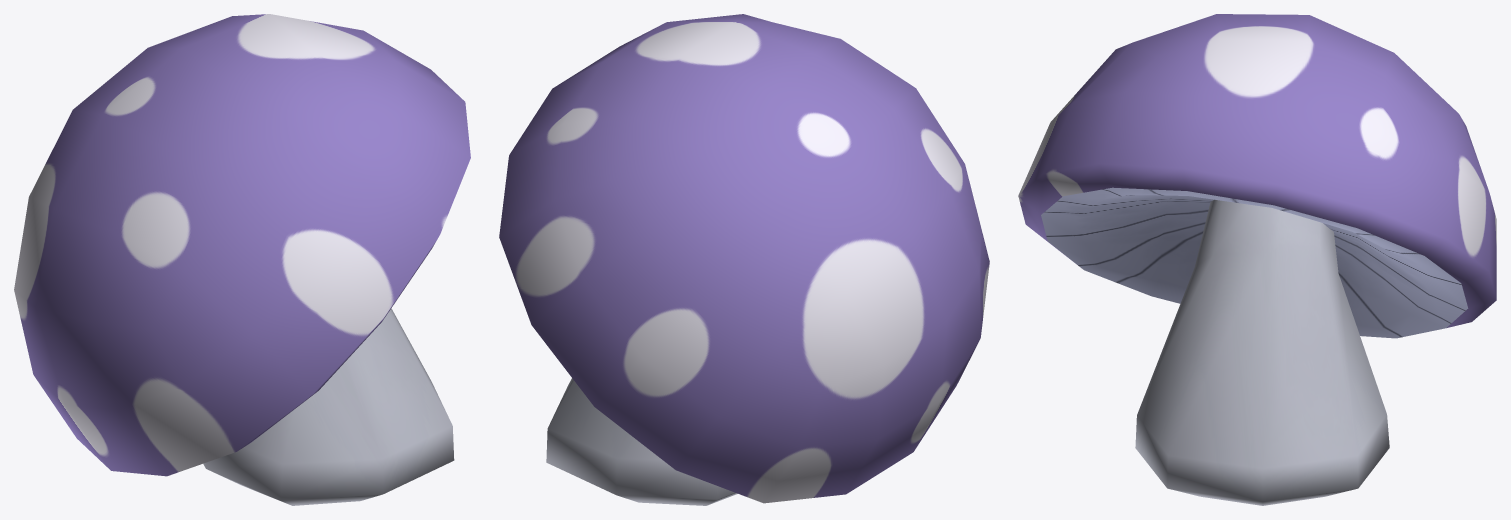
The model's file is Mushroom1.fbx.
3 views of the same model, side by side, from view 1: azimuth 30°, elevation 25°; view 2: azimuth 150°, elevation 25°; view 3: azimuth 270°, elevation 25° (orthographic). The views are drawn at different scales.
Parts seen in each view (by area): view 1: Mushroomroot11; view 2: Mushroomroot11; view 3: Mushroomroot11.
Part boxes in pixels (x1,y1,x2,y2): Mushroomroot11: (14,14,470,505); Mushroomroot11: (499,14,989,505); Mushroomroot11: (1018,14,1496,505).
Bounding box in the file's own units: 18.95 × 20.2 × 20.93.
